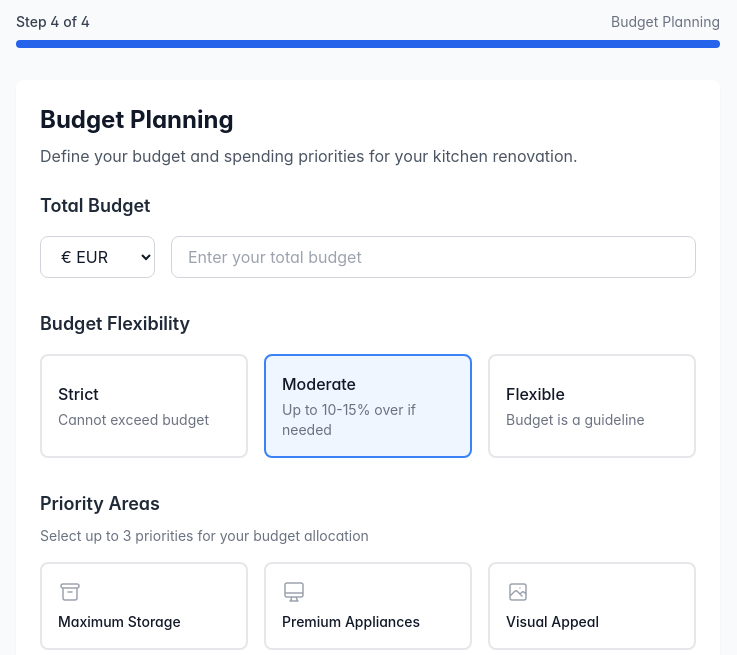
BudgetPlanning › Budget Input › should show budget range label when budget is entered
Step 1. Type "25000" into the number field with placeholder "Enter your total budget" → (434, 257), box left=171, top=236, right=696, bottom=278
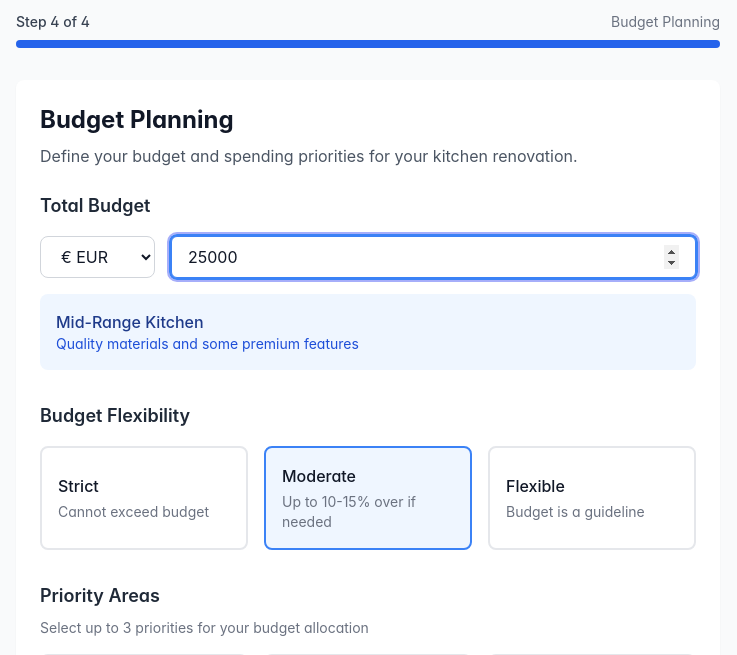
Result: the text "Mid-Range Kitchen" is shown at left=56, top=312, right=204, bottom=332
